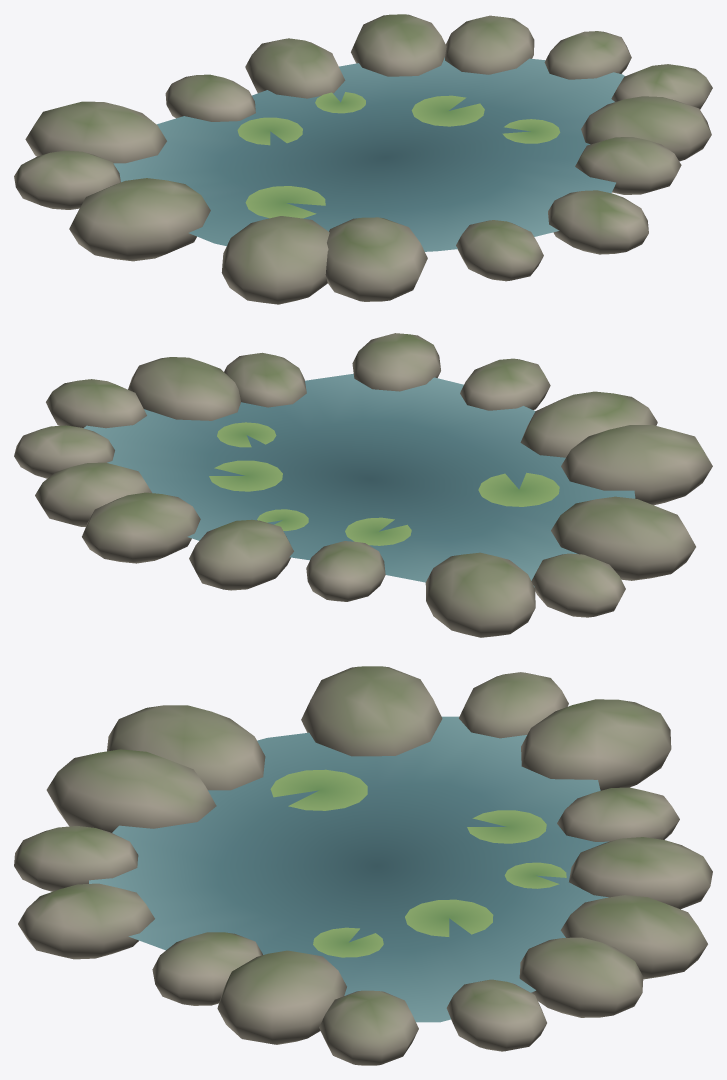
The model's file is Kit_Calm_Pond_01.glb.
3 views of the same model, one above another, from view 1: azimuth 30°, elevation 25°; view 2: azimuth 150°, elevation 25°; view 3: azimuth 270°, elevation 25° (orthographic). The views are drawn at different scales.
Parts seen in each view (by area): view 1: EX_Pond_Stone, EX_Pond_Water, MM_LilyPad_004, MM_LilyPad_000, MM_LilyPad_002, MM_LilyPad_001, MM_LilyPad_003; view 2: EX_Pond_Stone, EX_Pond_Water, MM_LilyPad_004, MM_LilyPad_000, MM_LilyPad_002, MM_LilyPad_001, MM_LilyPad_003; view 3: EX_Pond_Stone, EX_Pond_Water, MM_LilyPad_004, MM_LilyPad_000, MM_LilyPad_002, MM_LilyPad_001, MM_LilyPad_003.
Boxes of the visible parts, x1,y1,x2,y2 form: EX_Pond_Stone: [14, 14, 712, 304]; EX_Pond_Water: [113, 57, 624, 251]; MM_LilyPad_004: [245, 186, 325, 218]; MM_LilyPad_000: [411, 95, 484, 126]; MM_LilyPad_002: [237, 117, 302, 145]; MM_LilyPad_001: [502, 119, 560, 143]; MM_LilyPad_003: [315, 92, 365, 113]; EX_Pond_Stone: [14, 333, 712, 637]; EX_Pond_Water: [83, 373, 635, 587]; MM_LilyPad_004: [478, 472, 559, 506]; MM_LilyPad_000: [209, 460, 282, 491]; MM_LilyPad_002: [345, 517, 411, 545]; MM_LilyPad_001: [217, 422, 276, 447]; MM_LilyPad_003: [257, 509, 308, 530]; EX_Pond_Stone: [14, 666, 712, 1065]; EX_Pond_Water: [89, 716, 608, 1022]; MM_LilyPad_004: [270, 769, 367, 810]; MM_LilyPad_000: [405, 899, 493, 936]; MM_LilyPad_002: [467, 810, 546, 843]; MM_LilyPad_001: [313, 927, 383, 957]; MM_LilyPad_003: [504, 862, 566, 888].
Size of what is drawn, in the model's own units: 5.92 by 0.5949 by 4.7.
